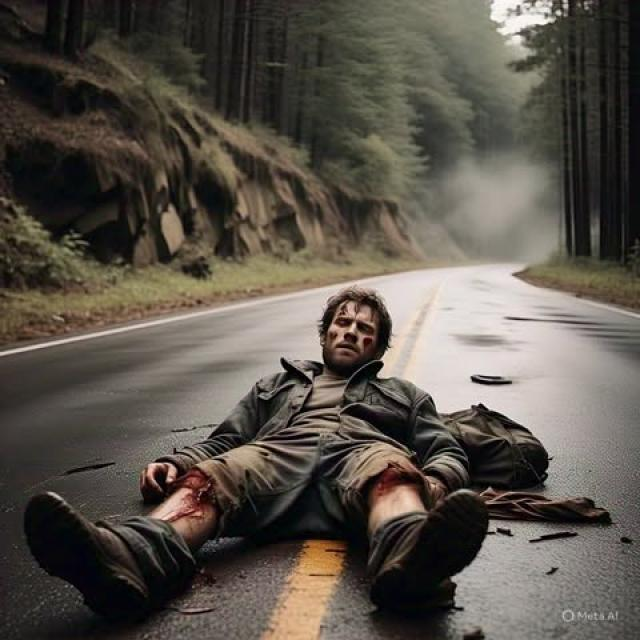injury: (319, 285, 391, 377), (165, 469, 216, 521), (368, 460, 428, 501), (361, 336, 376, 351), (327, 331, 337, 345)
